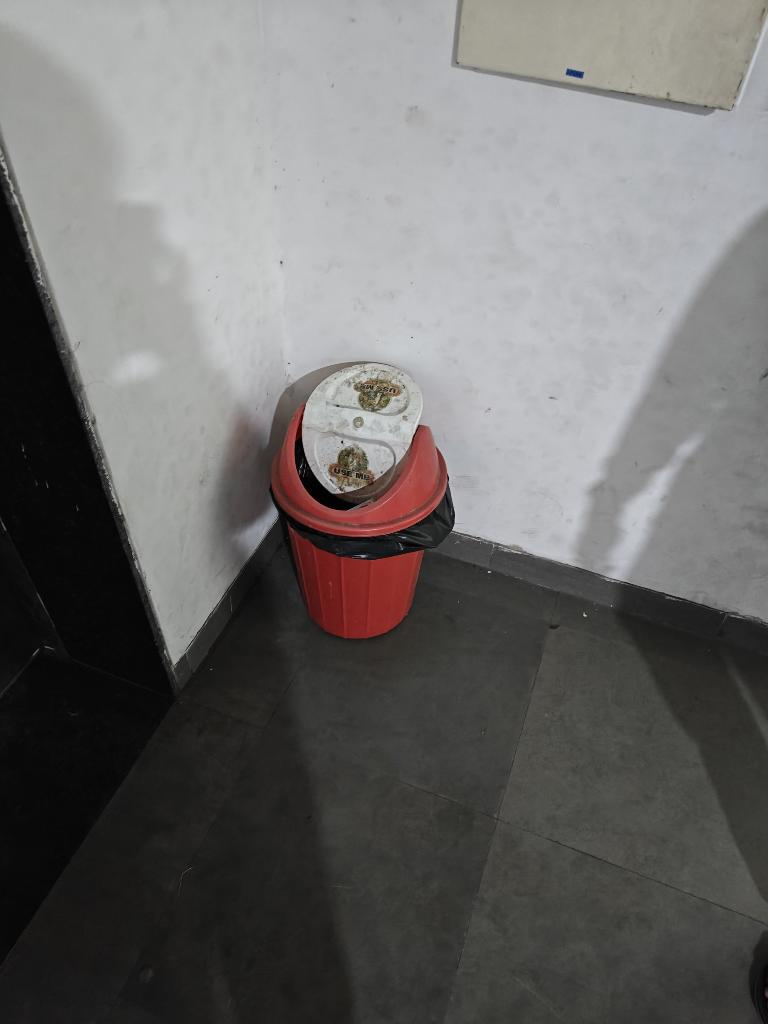dustbin: (240, 328, 469, 685)
